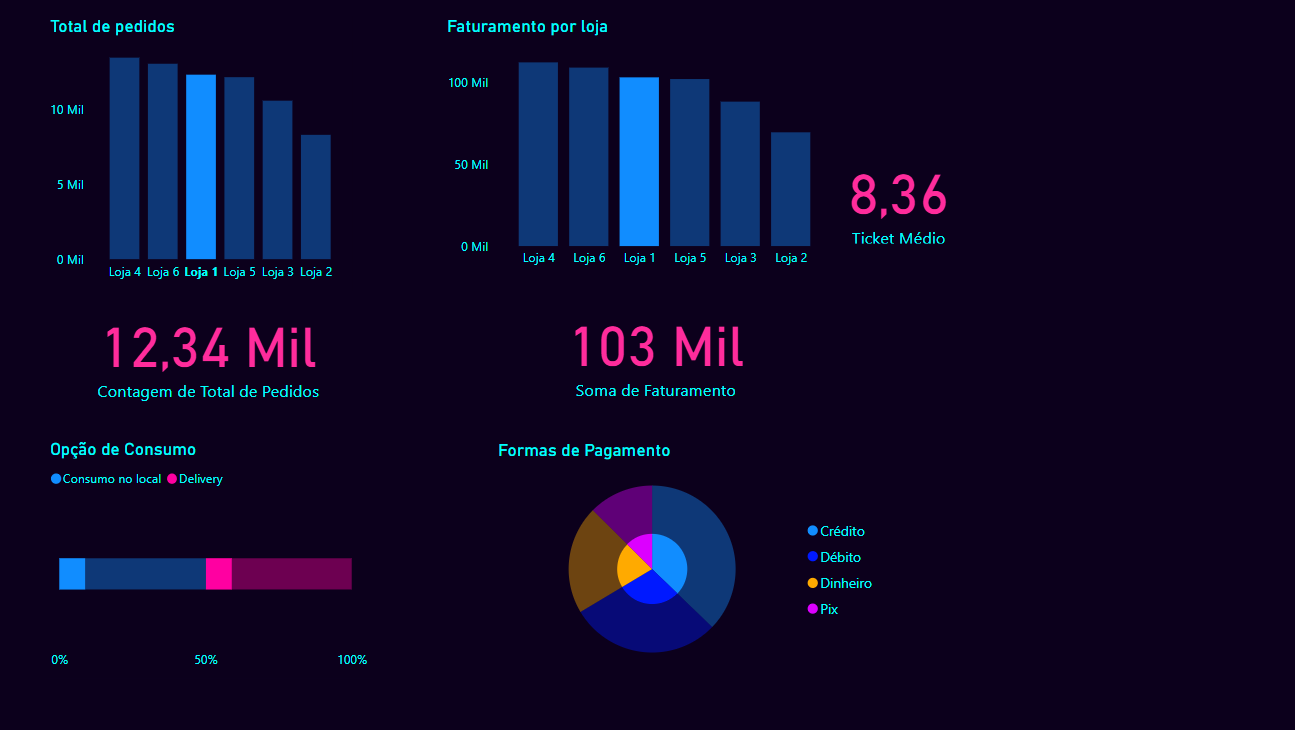

The dashboard page shown, as its layout file describes it:
{"tool":"powerbi","page":{"name":"Página 1","canvas":[1280,720],"ordinal":0},"visuals":[{"type":"columnChart","title":"Total de pedidos","fields":{"Category":["Sheet1.loja"],"Y":["CountNonNull(Sheet1.id_pedido)"]},"box":[61.3,20.4,298.6,266.5],"z":0},{"type":"actionButton","box":[0,0,100,40],"z":1000},{"type":"card","title":"Total de pedidos","fields":{"Values":["CountNonNull(Sheet1.id_pedido)"]},"box":[100.2,286.9,240.2,118.7],"z":2000},{"type":"lineStackedColumnComboChart","title":"Faturamento por loja","fields":{"Category":["Sheet1.loja"],"Y":["Sum(Sheet1.preco)"]},"box":[447.4,20.4,384.2,253.9],"z":3000},{"type":"card","fields":{"Values":["Sum(Sheet1.preco)"]},"box":[546.6,285,217.9,120.6],"z":4000},{"type":"card","title":"Ticket médio","fields":{"Values":["Sheet1.Ticket Médio"]},"box":[831.6,147.8,120.6,99.2],"z":5000},{"type":"hundredPercentStackedBarChart","title":"Opção de Consumo","fields":{"Y":["CountNonNull(Sheet1.loja)"],"Series":["Sheet1.local_consumo"]},"box":[61.3,431.9,319,233.4],"z":6000},{"type":"pieChart","title":"Formas de Pagamento","fields":{"Category":["Sheet1.forma_pagamento"],"Y":["CountNonNull(Sheet1.id_pedido)"]},"box":[497,432.8,383.2,232.5],"z":7000}]}

Visuals, with their boxes in screenshot pixels (x1, y1, x2, y2), scaled from the page's 1280x720 canvas onto the 1295x730 screenshot:
"Total de pedidos" columnChart: pyautogui.locateOnScreen(62, 21, 364, 291)
actionButton: pyautogui.locateOnScreen(0, 0, 101, 41)
"Total de pedidos" card: pyautogui.locateOnScreen(101, 291, 344, 411)
"Faturamento por loja" lineStackedColumnComboChart: pyautogui.locateOnScreen(453, 21, 841, 278)
card - Sum(Sheet1.preco): pyautogui.locateOnScreen(553, 289, 773, 411)
"Ticket médio" card: pyautogui.locateOnScreen(841, 150, 963, 250)
"Opção de Consumo" hundredPercentStackedBarChart: pyautogui.locateOnScreen(62, 438, 385, 675)
"Formas de Pagamento" pieChart: pyautogui.locateOnScreen(503, 439, 891, 675)
